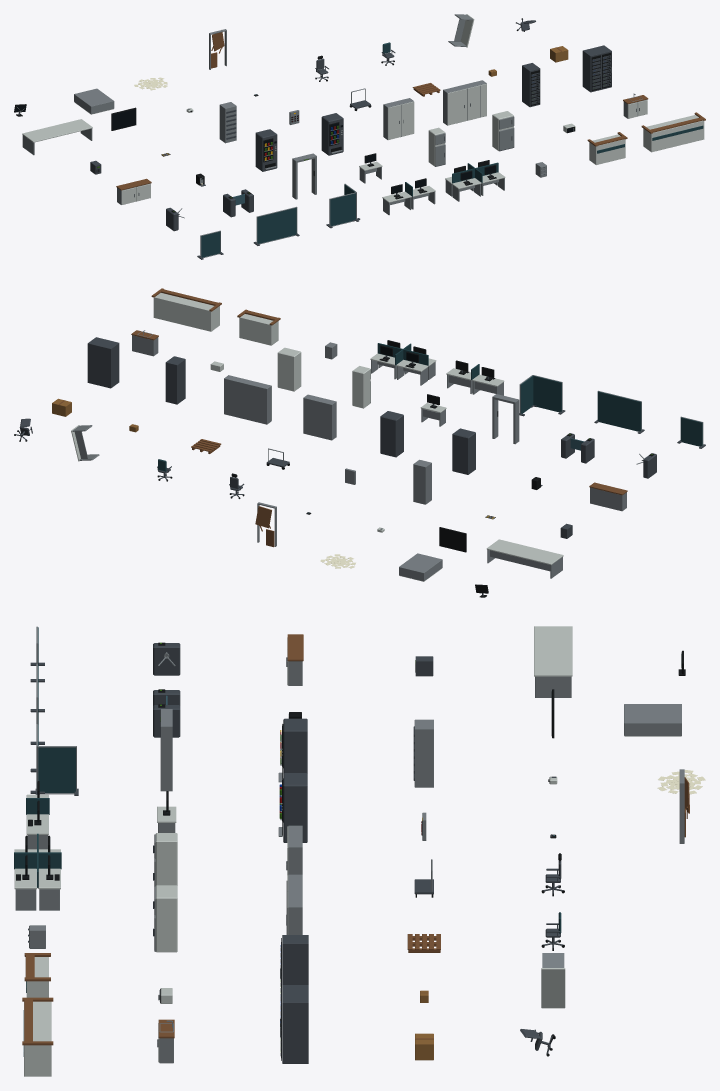
Rendered from OfficeZones_All.fbx.
The picture shows the model from 3 angles, top to bottom: view 1: azimuth 30°, elevation 25°; view 2: azimuth 150°, elevation 25°; view 3: azimuth 270°, elevation 25°; orthographic projection. The views are drawn at different scales.
Parts seen in each view (by area): view 1: ReceptionWide, ArchiveCabinetBank, WorkstationBank4, ServerRackTwin, PartitionWide, ArchiveCabinetWide, ConferenceTableLong, WorkstationBank2, ReceptionCompact, PartitionCorner, DrinkVending, SnackVending (+14 smaller); view 2: ReceptionWide, ArchiveCabinetBank, WorkstationBank4, ConferenceTableLong, ServerRackTwin, PartitionWide, PartitionCorner, ArchiveCabinetWide, WorkstationBank2, ReceptionCompact, DrinkVending, SnackVending (+14 smaller); view 3: WorkstationBank4, ConferenceTableLong, ReceptionWide, ServerRackTwin, PartitionCorner, FallenArchiveCabinet, DrinkVending, FridgeWide, SnackVending, ServerRackCompact, VentilationCabinet, OverturnedDesk (+10 smaller).
Part boxes in pixels (x1,y1,x2,y2): ReceptionWide: [641, 112, 705, 152]; ArchiveCabinetBank: [443, 80, 486, 125]; WorkstationBank4: [445, 160, 505, 201]; ServerRackTwin: [582, 45, 611, 92]; PartitionWide: [253, 206, 299, 245]; ArchiveCabinetWide: [383, 98, 414, 139]; ConferenceTableLong: [22, 119, 92, 155]; WorkstationBank2: [382, 178, 435, 215]; ReceptionCompact: [587, 132, 627, 164]; PartitionCorner: [326, 183, 360, 228]; DrinkVending: [321, 113, 343, 155]; SnackVending: [255, 129, 277, 171]; ReceptionWide: [151, 288, 221, 331]; ArchiveCabinetBank: [224, 375, 271, 424]; WorkstationBank4: [370, 340, 436, 385]; ConferenceTableLong: [486, 539, 563, 578]; ServerRackTwin: [87, 337, 119, 388]; PartitionWide: [594, 390, 644, 433]; PartitionCorner: [519, 375, 565, 416]; ArchiveCabinetWide: [303, 394, 336, 440]; WorkstationBank2: [446, 360, 504, 395]; ReceptionCompact: [237, 309, 280, 345]; DrinkVending: [380, 411, 403, 457]; SnackVending: [452, 428, 475, 474]; WorkstationBank4: [14, 833, 61, 910]; ConferenceTableLong: [534, 626, 572, 697]; ReceptionWide: [22, 997, 53, 1076]; ServerRackTwin: [280, 985, 308, 1063]; PartitionCorner: [30, 724, 78, 795]; FallenArchiveCabinet: [624, 704, 681, 736]; DrinkVending: [278, 773, 307, 842]; FridgeWide: [153, 885, 177, 952]; SnackVending: [278, 718, 307, 782]; ServerRackCompact: [280, 935, 308, 997]; VentilationCabinet: [413, 719, 433, 787]; OverturnedDesk: [541, 953, 565, 1008].
Bounding box in the file's own units: 3147 × 223 × 2148.
Materials: 1 (1 with a texture image).
